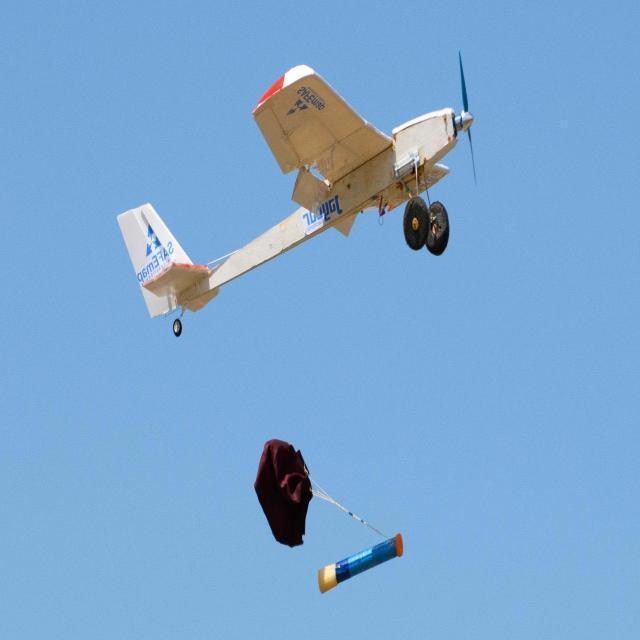iha: (113, 32, 493, 357)
